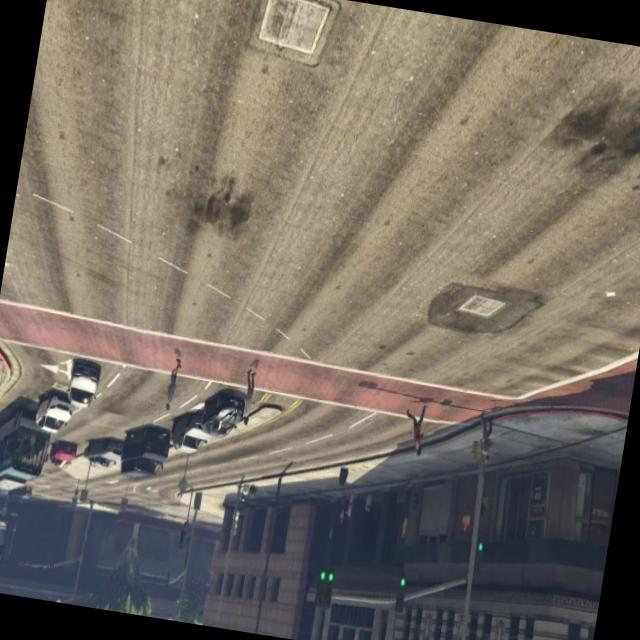Green-Signal: (309, 553, 342, 617), (388, 564, 414, 624), (468, 530, 490, 586)
